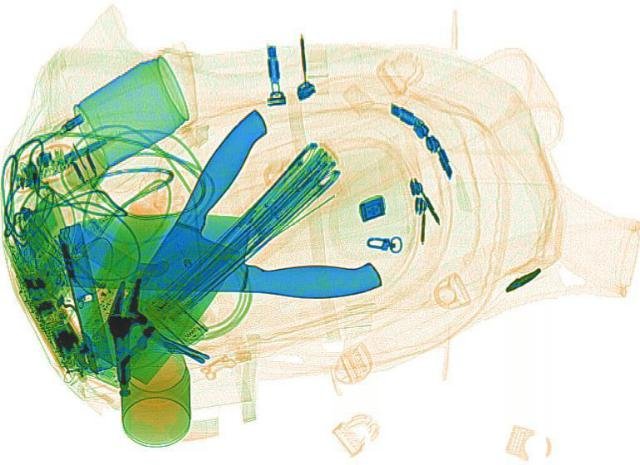Knife: (70, 106, 324, 385), (62, 210, 384, 297)
